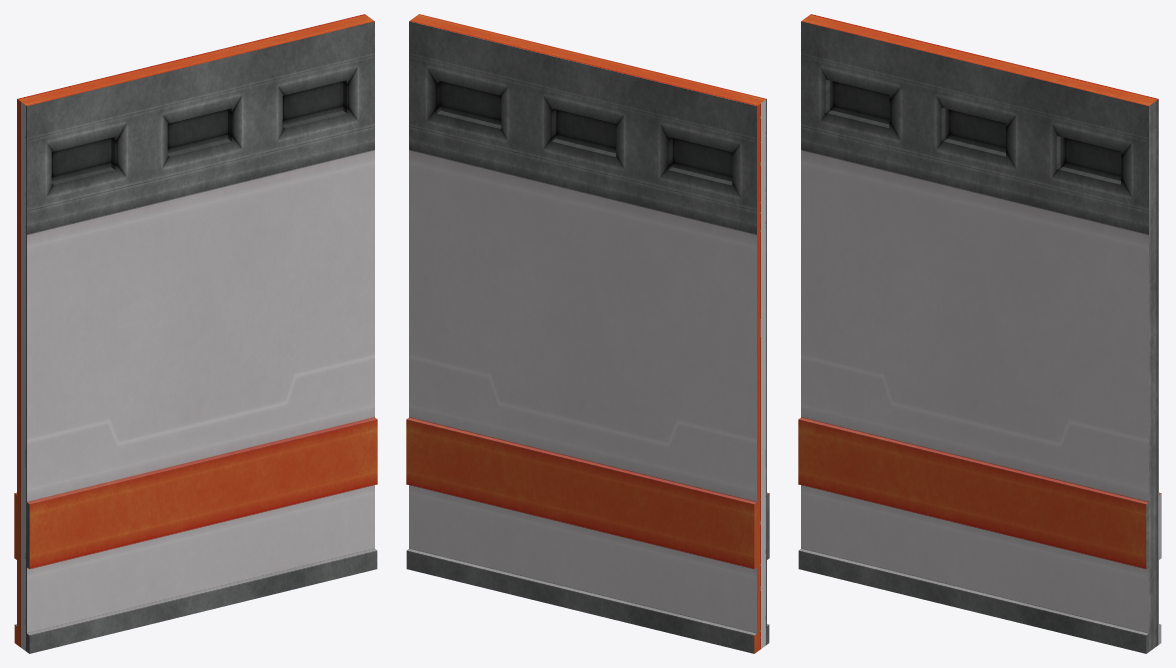
The model's file is Sci-Fi Walls 4.fbx.
The picture shows the model from 3 angles, left to right: view 1: azimuth 30°, elevation 25°; view 2: azimuth 150°, elevation 25°; view 3: azimuth 330°, elevation 25°; orthographic projection.
Parts seen in each view (by area): view 1: Wall 2_Final; view 2: Wall 2_Final; view 3: Wall 2_Final.
Boxes of the visible parts, x1,y1,x2,y2 form: Wall 2_Final: (14,14,377,653); Wall 2_Final: (406,14,769,653); Wall 2_Final: (798,14,1161,653).
Size of the model in its own units: 400 by 600 by 30.3.
1 material, 1 textured.
